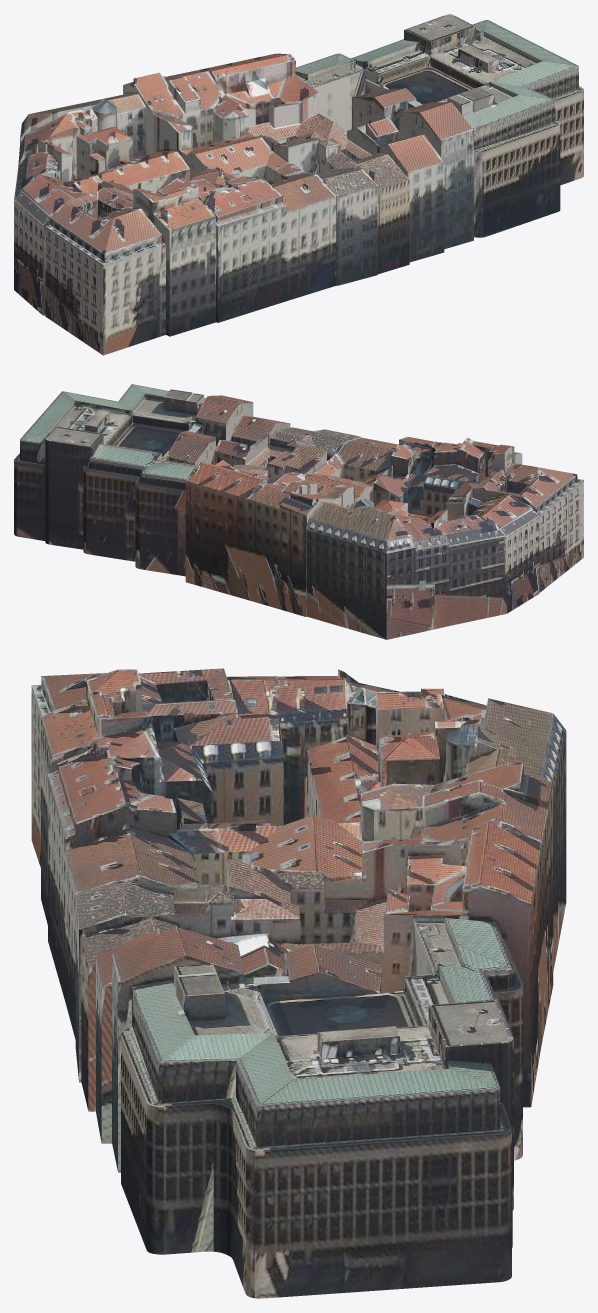
Rendered from LYON_1ER_00127.dae.
The picture shows the model from 3 angles, top to bottom: view 1: azimuth 30°, elevation 25°; view 2: azimuth 150°, elevation 25°; view 3: azimuth 270°, elevation 25°; orthographic projection. The views are drawn at different scales.
Bounding box in the file's own units: 132 × 64.54 × 30.08.
2 materials, 2 textured.
